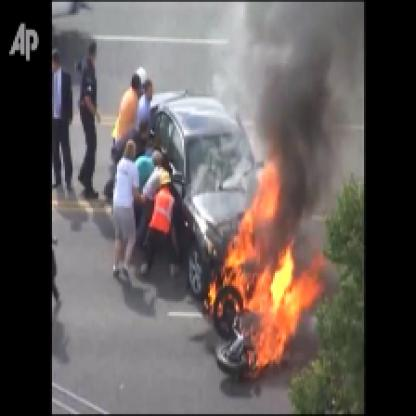Fire: (191, 135, 327, 379)
Smoke: (262, 2, 362, 189)
